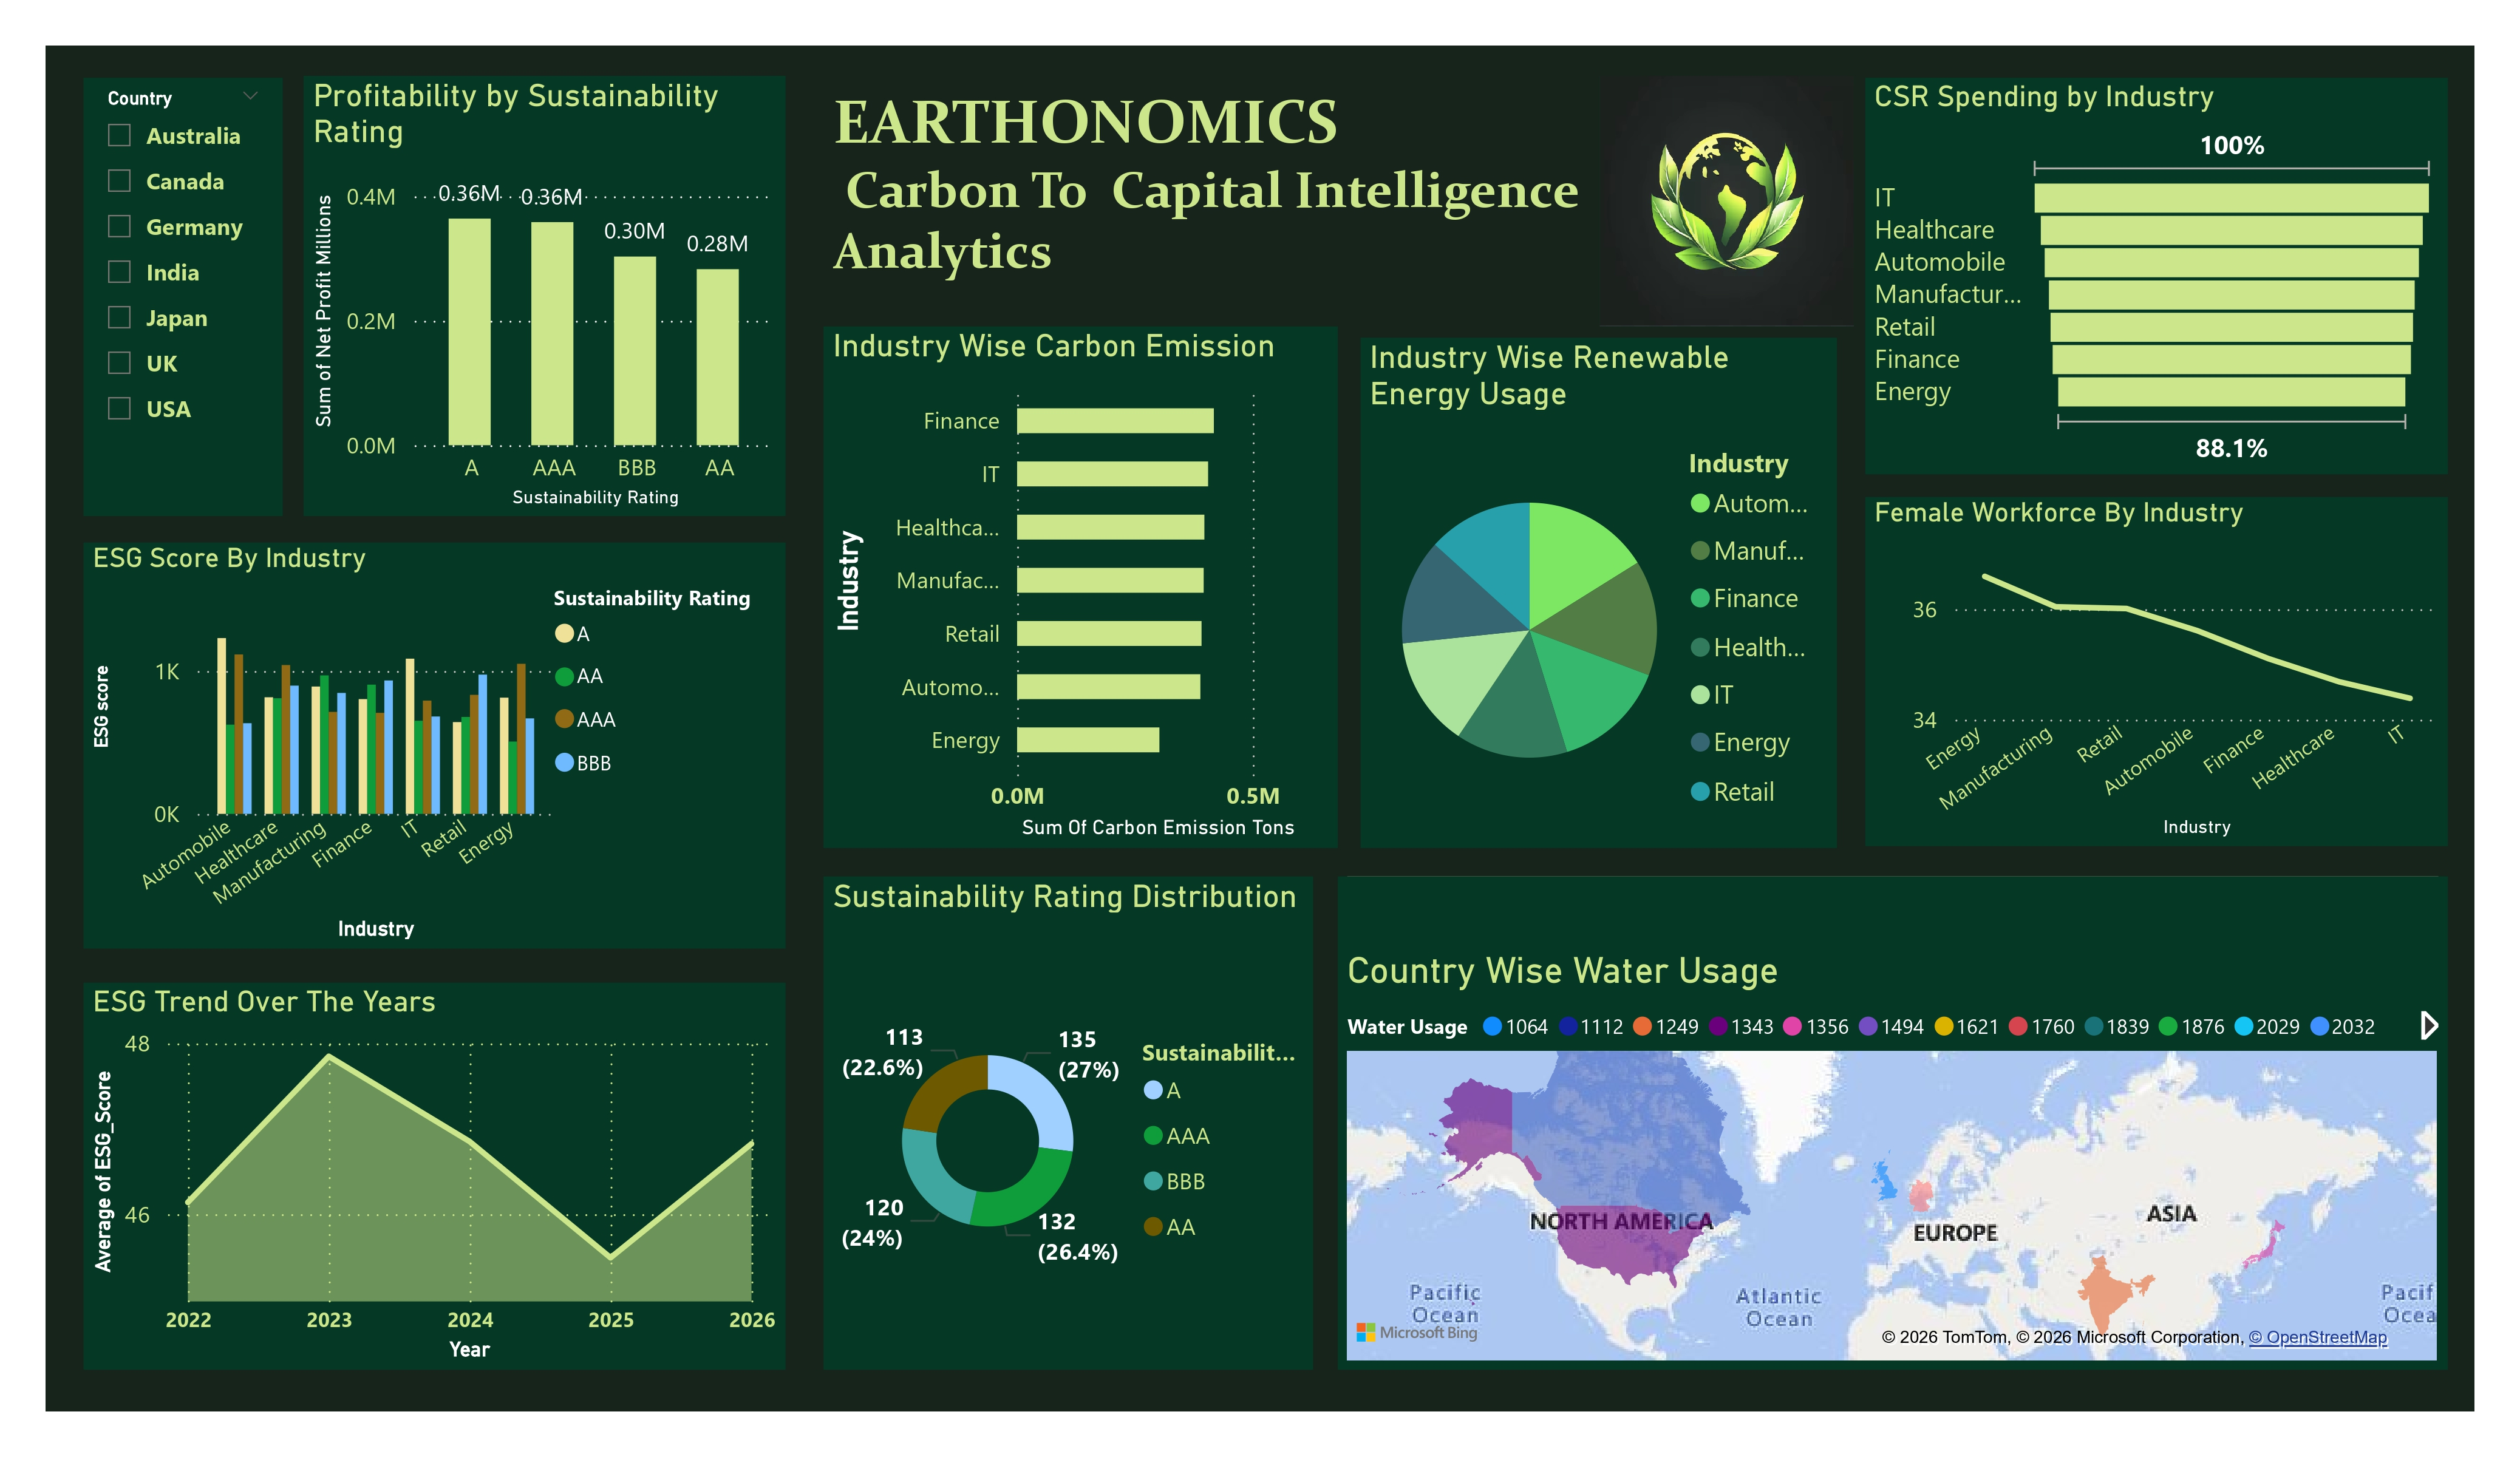

The page's visual inventory and layout, read from the dashboard file:
{"tool":"powerbi","page":{"name":"Page 1","canvas":[1280,720],"ordinal":0},"visuals":[{"type":"clusteredColumnChart","title":"ESG Score By Industry","fields":{"Category":["ESG_Dataset.Industry"],"Y":["Sum(ESG_Dataset.ESG_Score)"],"Series":["ESG_Dataset.Sustainability_Rating"]},"box":[20,262,370,214],"z":0},{"type":"donutChart","title":"Sustainability Rating Distribution","fields":{"Category":["ESG_Dataset.Sustainability_Rating"],"Y":["CountNonNull(ESG_Dataset.Company_ID)"]},"box":[410,437.5,257.5,260],"z":1000},{"type":"lineChart","title":"ESG Trend Over The Years","fields":{"Category":["ESG_Dataset.Year"],"Y":["Avg(ESG_Dataset.ESG_Score)"]},"box":[20,494,370,204],"z":2000},{"type":"barChart","title":"Industry Wise Carbon Emission","fields":{"Category":["ESG_Dataset.Industry"],"Y":["Sum(ESG_Dataset.Carbon_Emissions_Tons)"]},"box":[410,147.8,271.1,275.6],"z":3000},{"type":"pieChart","title":"Industry Wise Renewable Energy Usage","fields":{"Category":["ESG_Dataset.Industry"],"Y":["Sum(ESG_Dataset.Renewable_Energy_%)"]},"box":[692.9,154.3,251.4,268.6],"z":4000},{"type":"filledMap","title":"Country Wise Water Usage","fields":{"Category":["ESG_Dataset.Country"],"Series":["ESG_Dataset.Water_Usage_KL"]},"box":[681,437.9,584.5,260.3],"z":5000},{"type":"lineChart","title":"Female Workforce By Industry","fields":{"Category":["ESG_Dataset.Industry"],"Y":["Avg(ESG_Dataset.Female_Workforce_%)"]},"box":[958.8,237.6,307.1,184.7],"z":6000},{"type":"columnChart","title":"Profitability by Sustainability Rating","fields":{"Category":["ESG_Dataset.Sustainability_Rating"],"Y":["Sum(ESG_Dataset.Net_Profit_Million)"]},"box":[136.1,16.4,254.1,231.1],"z":7000},{"type":"funnel","title":"CSR Spending by Industry","fields":{"Category":["ESG_Dataset.Industry"],"Y":["Sum(ESG_Dataset.CSR_Spending_Million)"]},"box":[958.6,17.2,306.9,208.6],"z":8000},{"type":"slicer","fields":{"Values":["ESG_Dataset.Country"]},"box":[20,16.7,105,231.7],"z":9000},{"type":"textbox","box":[410,16,430,132],"z":10000},{"type":"image","box":[819,16.5,134.2,131.6],"z":11000},{"type":"shape","box":[681.8,438.2,583.6,38.2],"z":12000}]}

Visuals, with their boxes on the page's 1280x720 design canvas (x1, y1, x2, y2). These are canvas units, not pixel positions in the 2520x1457 screenshot, which may show the page scaled, cropped or inside an application window:
"ESG Score By Industry" clusteredColumnChart: [20,262,390,476]
"Sustainability Rating Distribution" donutChart: [410,438,668,698]
"ESG Trend Over The Years" lineChart: [20,494,390,698]
"Industry Wise Carbon Emission" barChart: [410,148,681,423]
"Industry Wise Renewable Energy Usage" pieChart: [693,154,944,423]
"Country Wise Water Usage" filledMap: [681,438,1266,698]
"Female Workforce By Industry" lineChart: [959,238,1266,422]
"Profitability by Sustainability Rating" columnChart: [136,16,390,248]
"CSR Spending by Industry" funnel: [959,17,1266,226]
slicer - ESG_Dataset.Country: [20,17,125,248]
textbox: [410,16,840,148]
image: [819,16,953,148]
shape: [682,438,1265,476]
